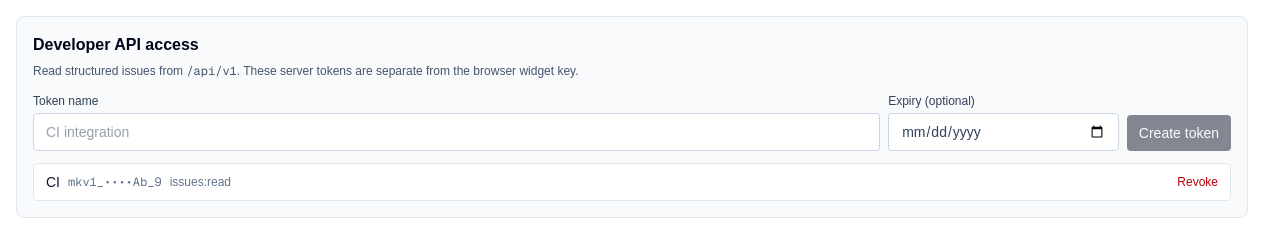
DeveloperAccessPanel › lists safe metadata and revokes without ever rendering a hash
This screenshot has width=1265, height=235.
Click the button with aria-label "Revoke CI": (1198, 182) [1177,174,1218,190]
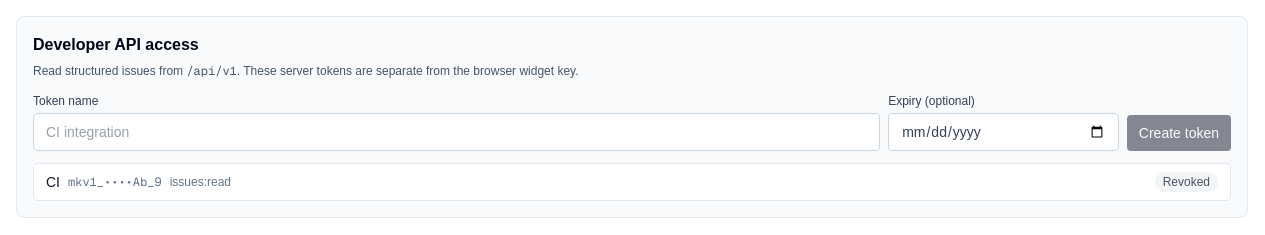
Check: the text "Revoked" is shown, box [1155,172,1218,192]
